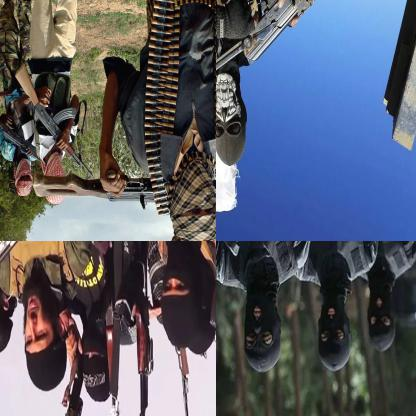rifle: (216, 0, 415, 91), (14, 61, 94, 181), (30, 159, 215, 210), (120, 241, 155, 415), (0, 98, 53, 165), (0, 241, 67, 287), (40, 357, 93, 415), (169, 332, 201, 415)
